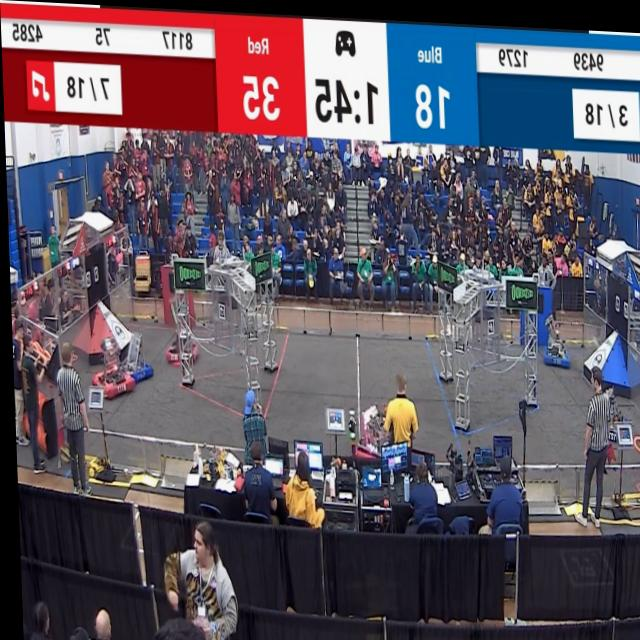Robot: (89, 328, 134, 402), (351, 392, 395, 462), (163, 294, 201, 372), (119, 323, 156, 385), (539, 309, 568, 364)
